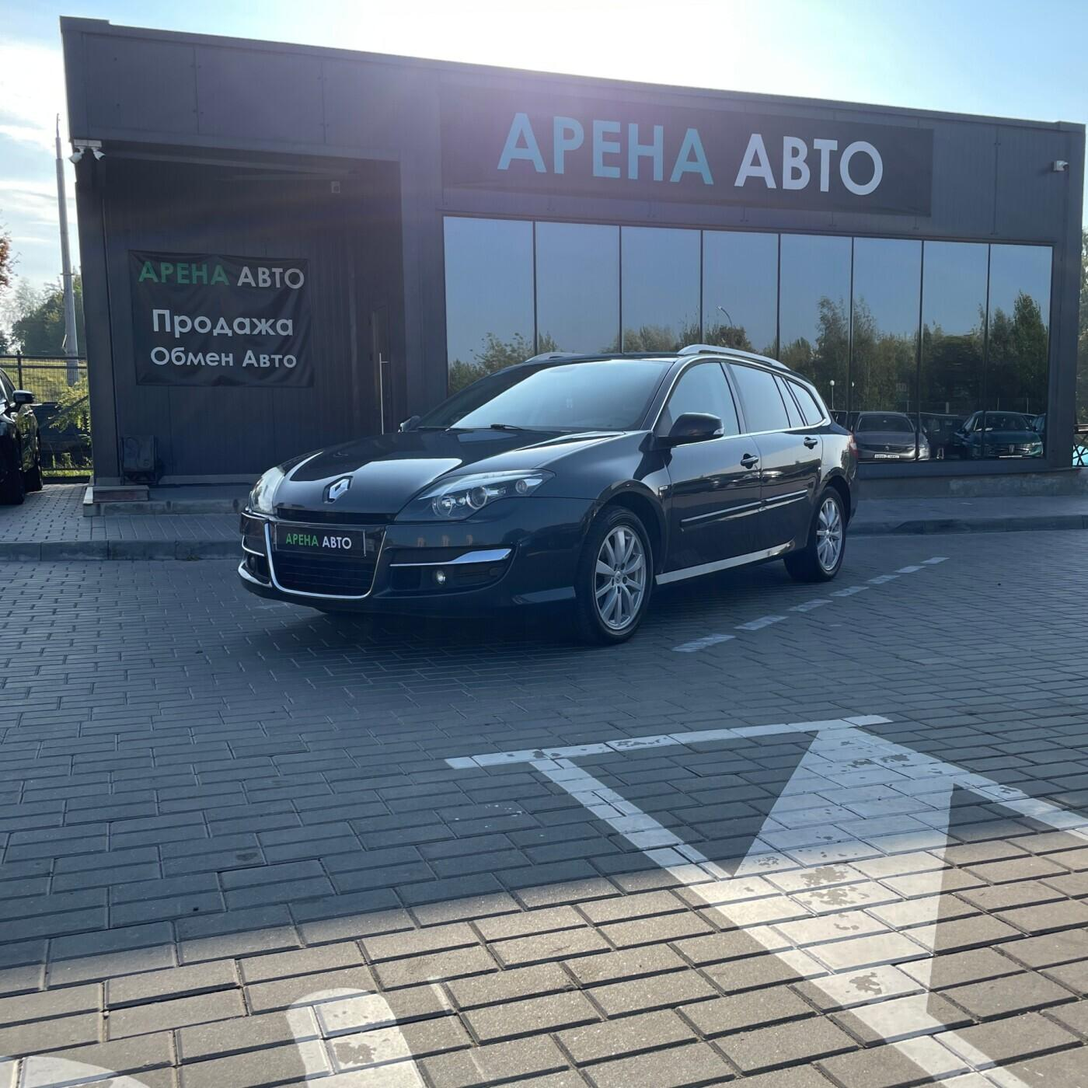Laguna_2010-2015: (227, 342, 866, 654)
